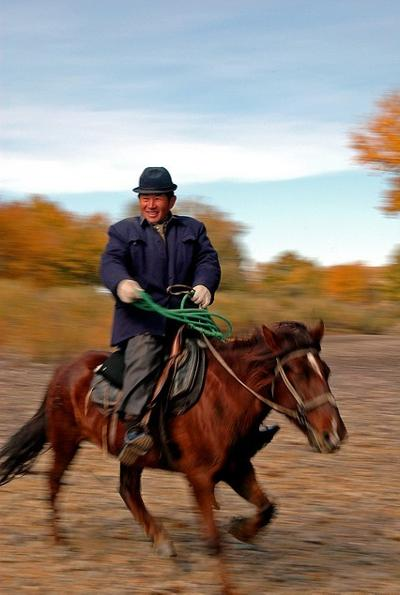person: (99, 166, 223, 467)
